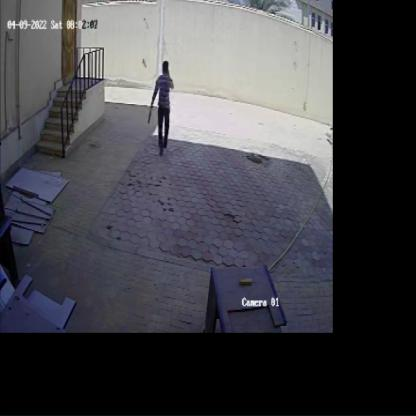handgun: (142, 90, 158, 128)
